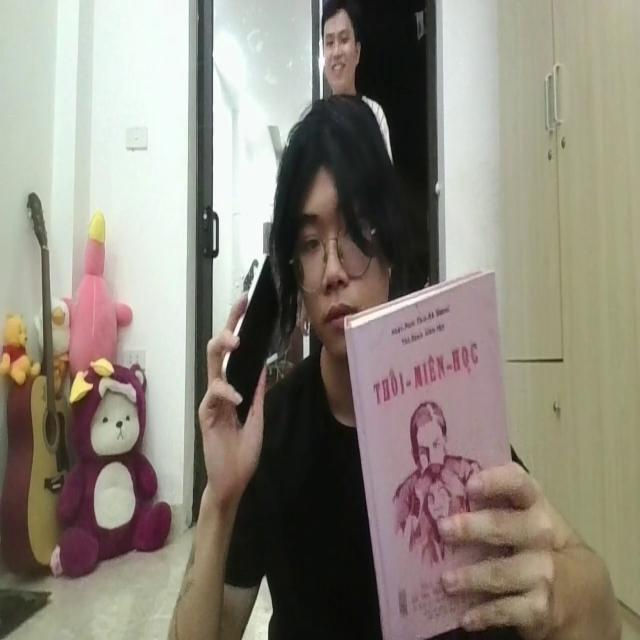book: (341, 259, 522, 640)
extra_person: (321, 9, 363, 97)
phone: (222, 241, 286, 427)
student: (164, 97, 619, 640)
